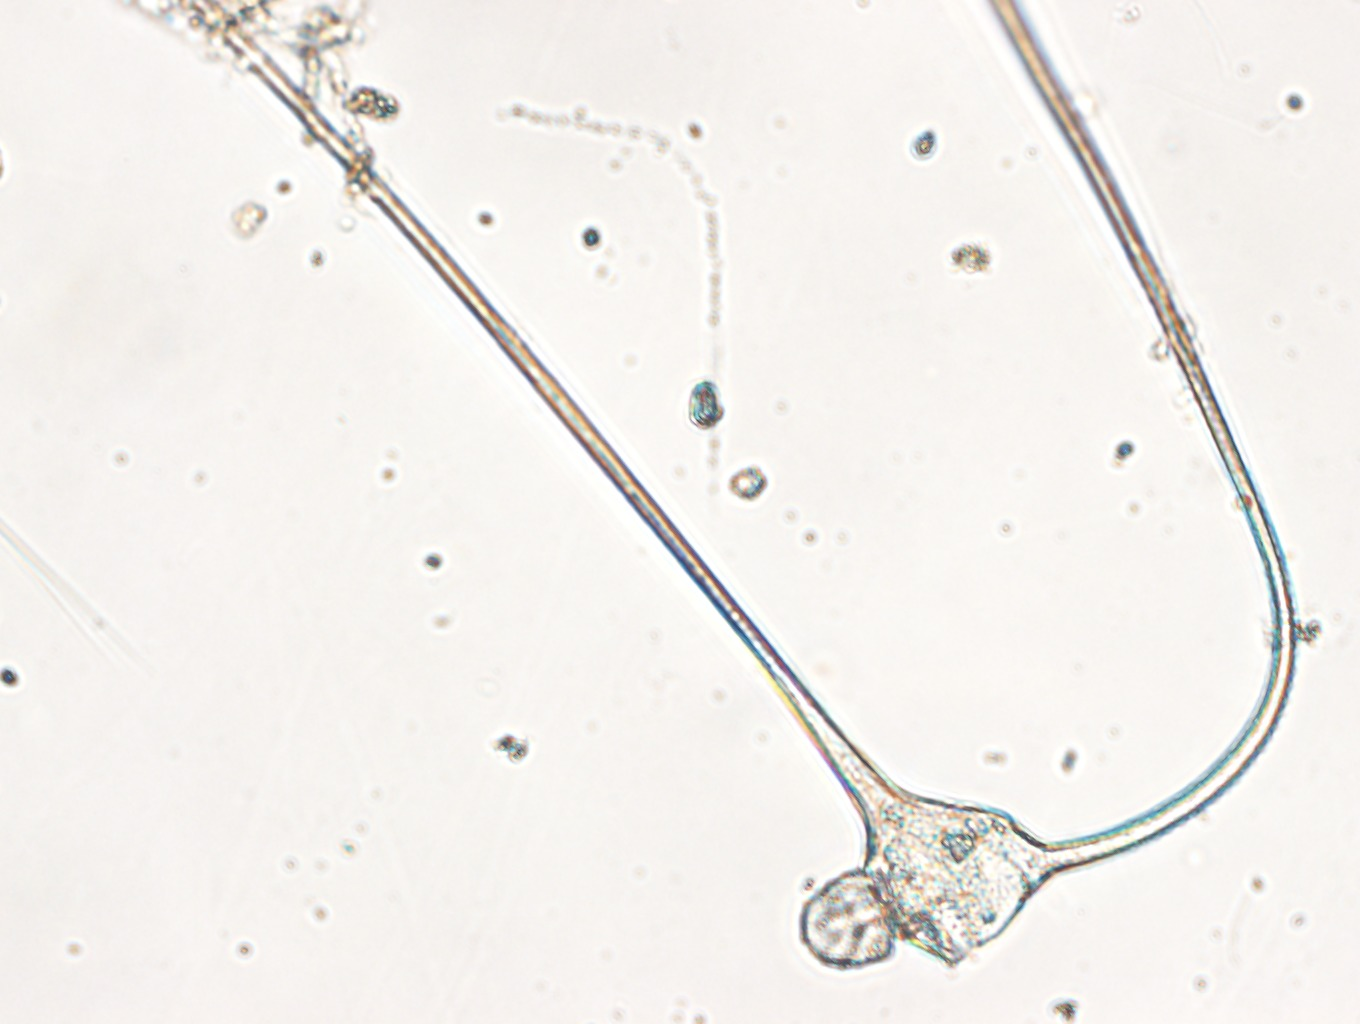ceratium trichoceros: (200, 4, 1308, 986)
